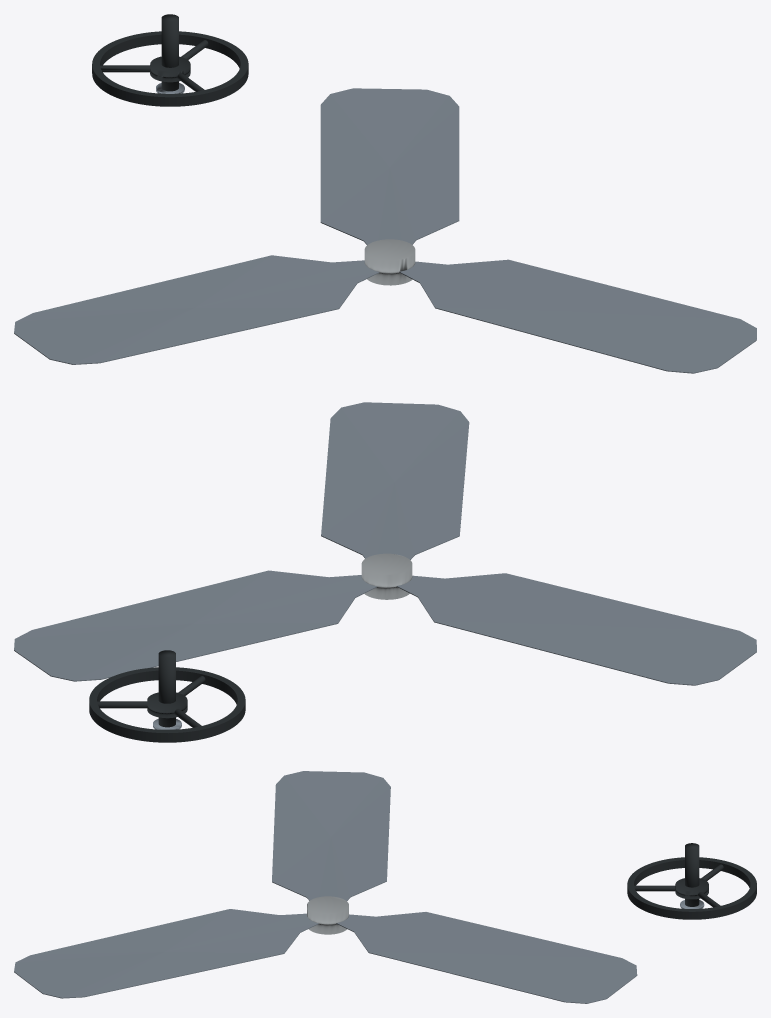
The model's file is moving_group.obj.
The picture shows the model from 3 angles, top to bottom: view 1: azimuth 30°, elevation 25°; view 2: azimuth 150°, elevation 25°; view 3: azimuth 270°, elevation 25°; orthographic projection. The views are drawn at different scales.
Visible parts, largest first — view 1: blade_left, blade_upper_right, blade_lower_right, driven_pulley_rim, propeller_hub, fan_axle, driven_pulley_hub; view 2: blade_left, blade_lower_right, blade_upper_right, driven_pulley_rim, propeller_hub, fan_axle, driven_pulley_hub; view 3: blade_upper_right, blade_lower_right, blade_left, driven_pulley_rim, propeller_hub, fan_axle, driven_pulley_hub.
Part boxes in pixels (x1,y1,x2,y2): blade_left: (14,255,379,364); blade_upper_right: (399,259,756,373); blade_lower_right: (320,88,459,244); driven_pulley_rim: (92,31,248,106); propeller_hub: (364,239,415,285); fan_axle: (161,14,178,91); driven_pulley_hub: (150,56,190,82); blade_left: (396,573,756,685); blade_lower_right: (14,570,376,681); blade_upper_right: (321,402,469,559); driven_pulley_rim: (89,667,245,742); propeller_hub: (361,553,412,599); fan_axle: (158,650,175,727); driven_pulley_hub: (147,692,187,718); blade_upper_right: (14,909,318,998); blade_lower_right: (336,912,637,1003); blade_left: (272,771,390,900); driven_pulley_rim: (627,857,756,919); propeller_hub: (307,896,348,934); fan_axle: (685,843,699,906); driven_pulley_hub: (675,878,708,899).
Bounding box in the file's own units: 0.7506 × 0.1205 × 1.02.
